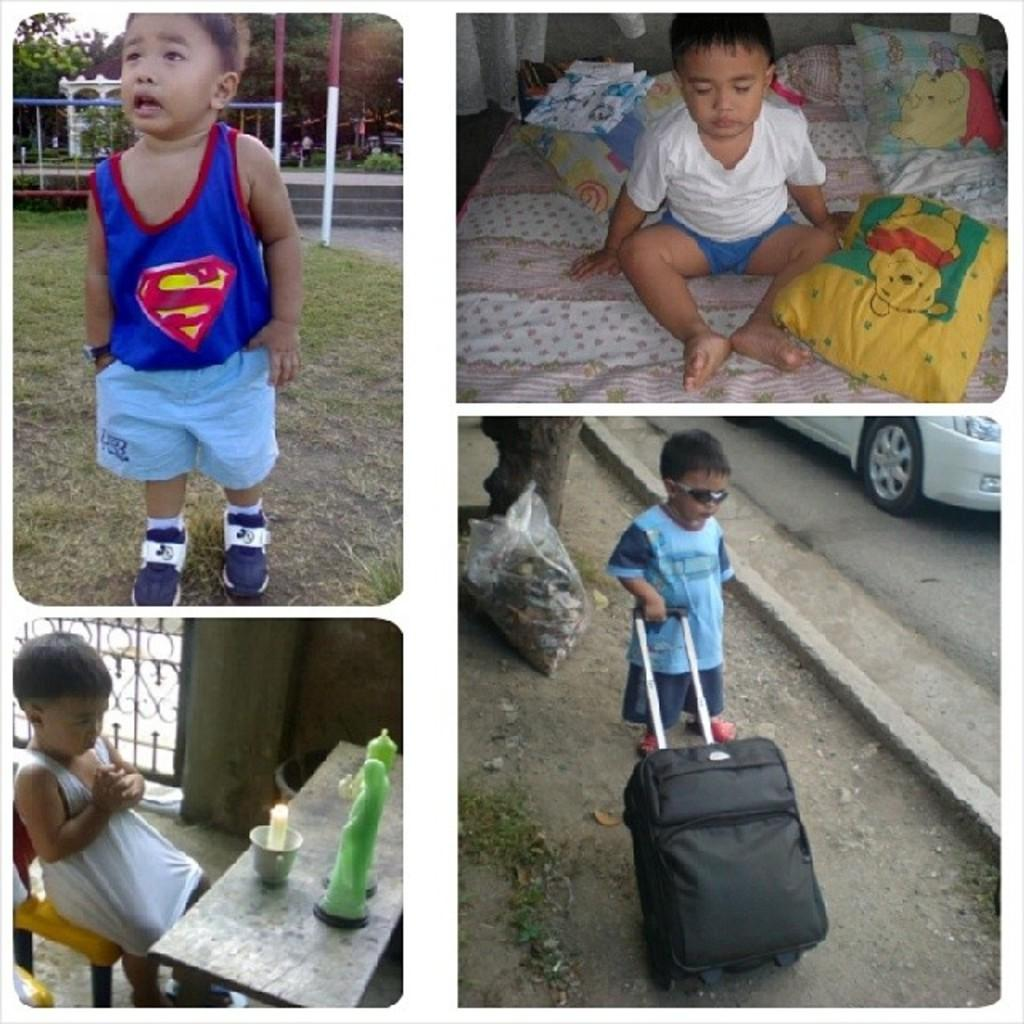Luggage-and-bags: (627, 645, 800, 942)
